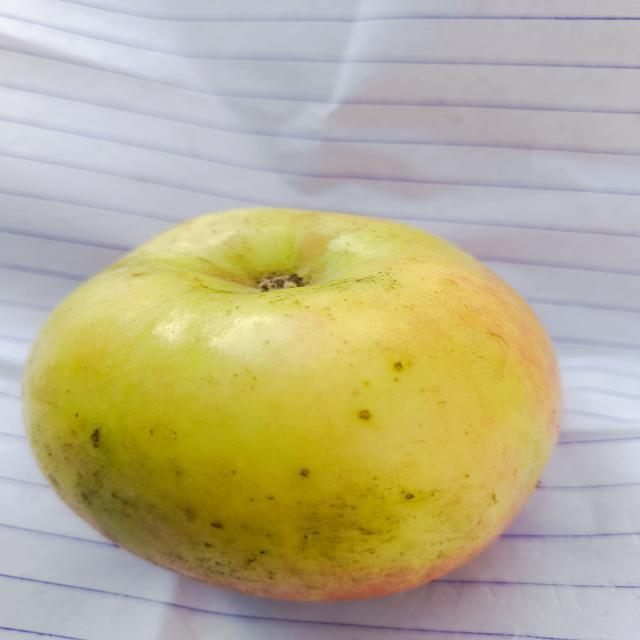Fresh Apple: (17, 205, 563, 607)
